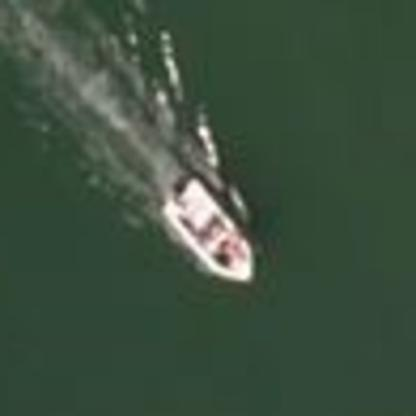ship: (153, 169, 260, 292)
